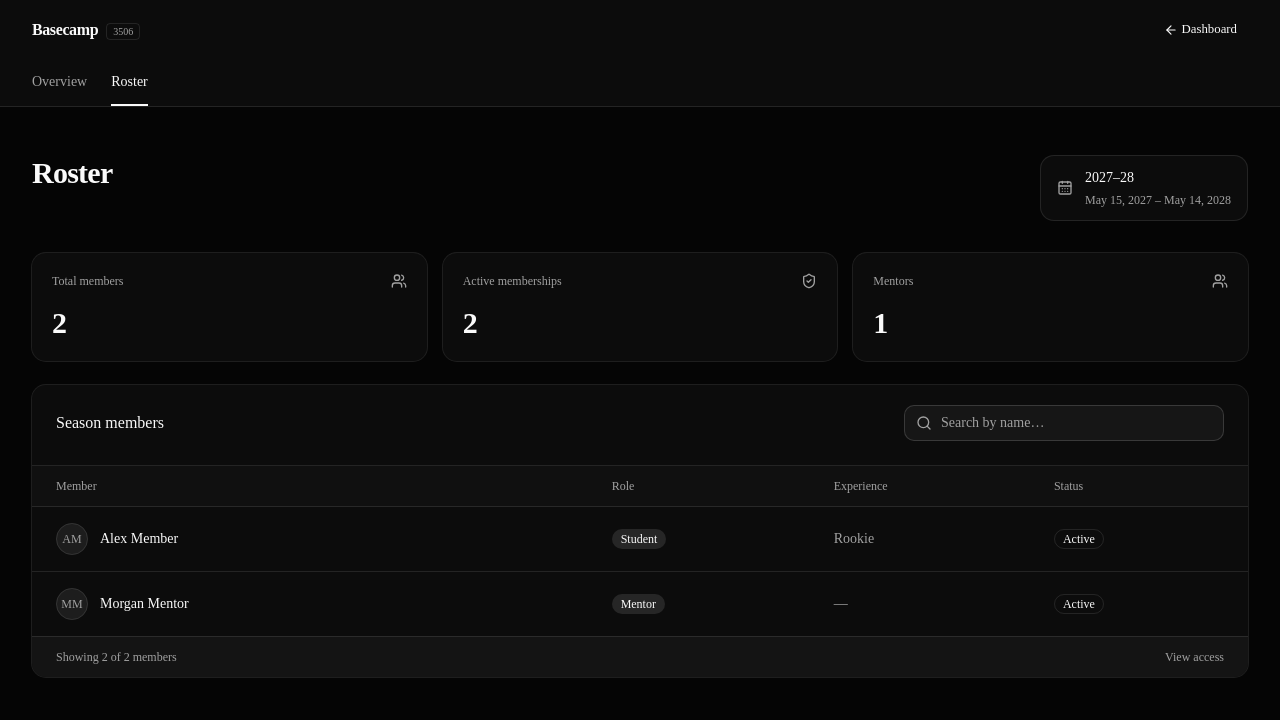
filters by partial member name ignoring capitalization and surrounding whitespace
In the search field named "Search members": (1064, 423) [904,405,1224,441], type "  oRgAn  "
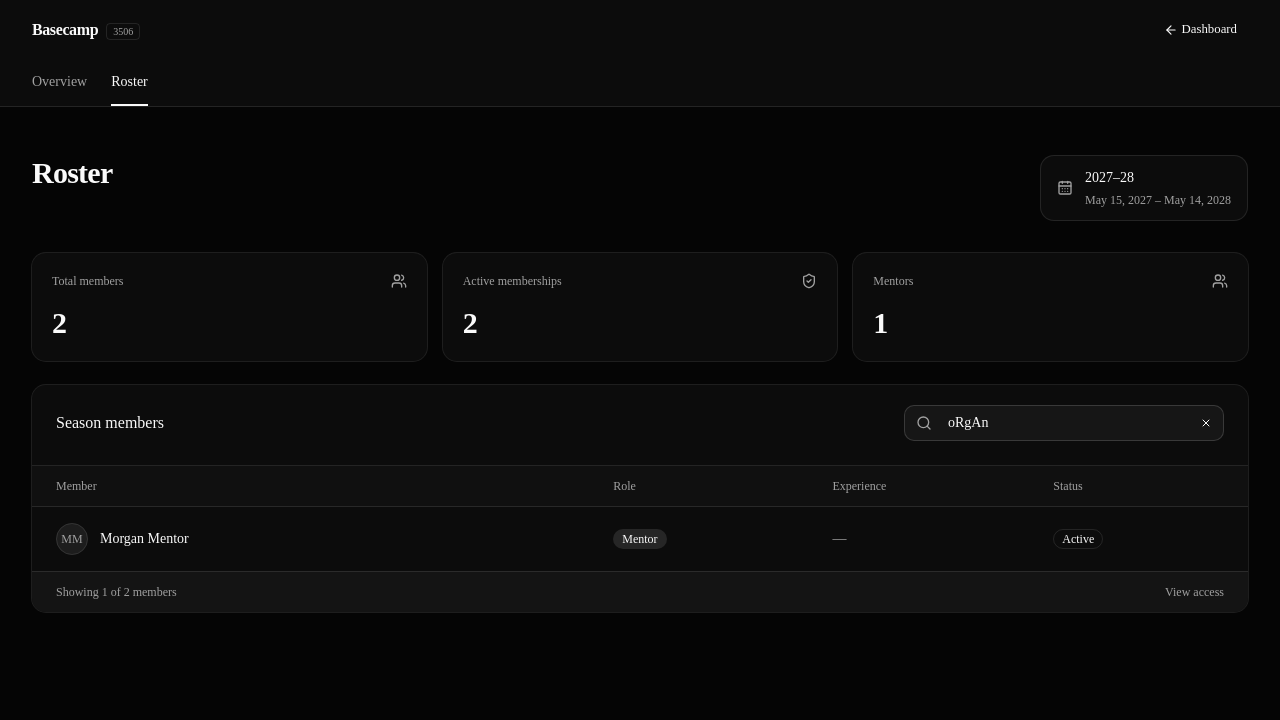
expect the text "Morgan Mentor" is shown: met, box [100,531,189,546]
expect the text "Alex Member" is gone: met
